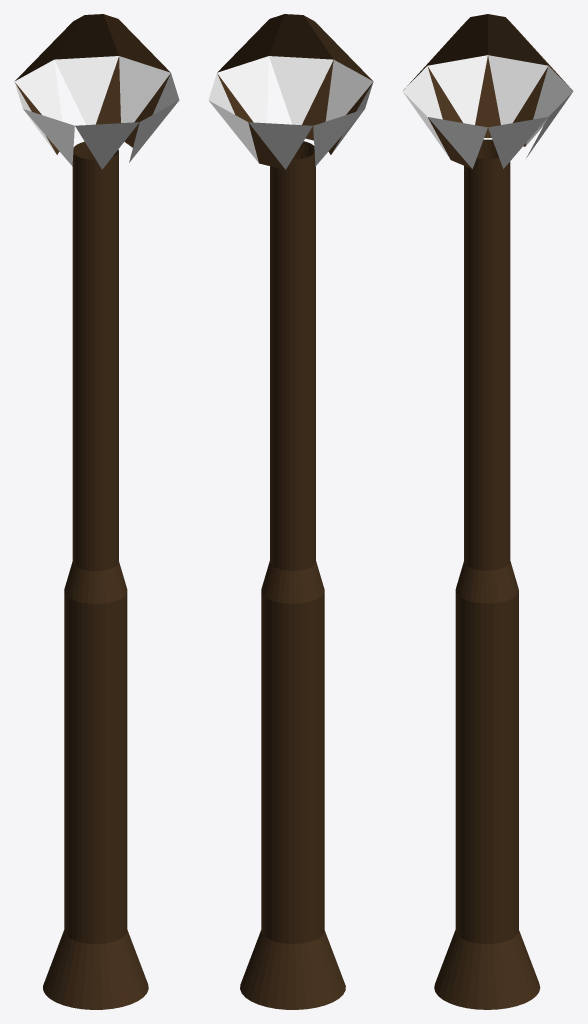
The model's file is street_lamp.glb.
3 renders of one model, left to right at view 1: azimuth 30°, elevation 25°; view 2: azimuth 150°, elevation 25°; view 3: azimuth 270°, elevation 25°, orthographic.
Parts seen in each view (by area): view 1: Cylinder.001; view 2: Cylinder.001; view 3: Cylinder.001.
Part boxes in pixels (x1=…): Cylinder.001: x1=14, y1=14, x2=179, y2=1009; Cylinder.001: x1=208, y1=14, x2=373, y2=1009; Cylinder.001: x1=402, y1=14, x2=573, y2=1009.
Size of the model in its own units: 1.85 by 11.5 by 1.85.
